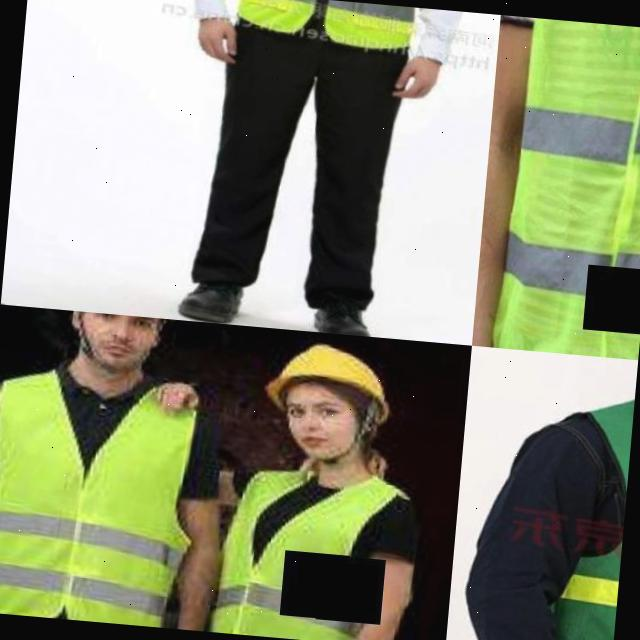vest: (0, 355, 207, 629), (487, 16, 640, 360), (208, 453, 390, 640), (550, 396, 634, 640), (216, 0, 437, 58)
